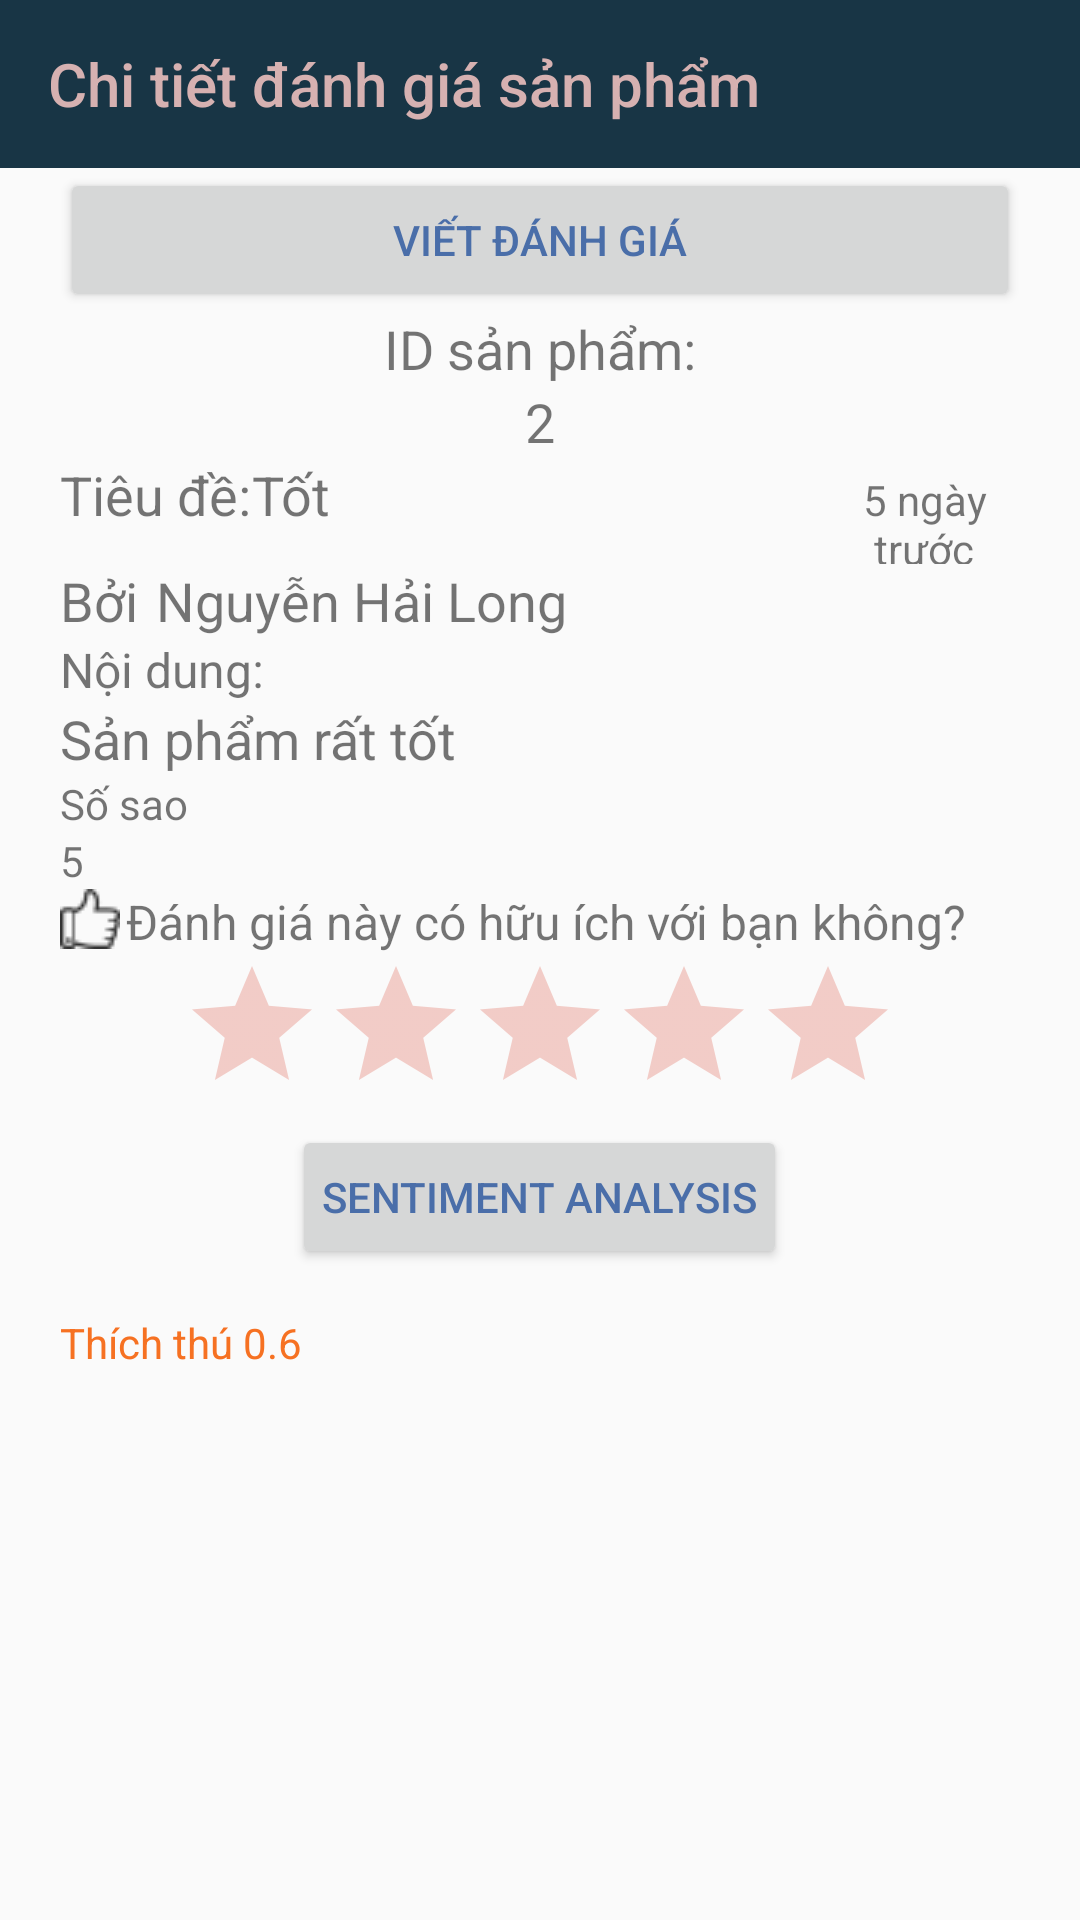

Icons on this 1080×1920 Android screen, each with the point to tap as point (x, y):
like: point (90, 919)
